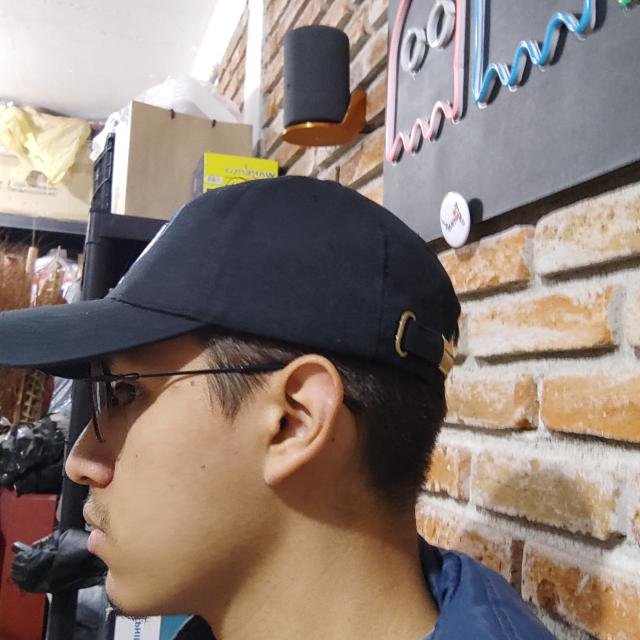ear: (259, 354, 344, 486)
